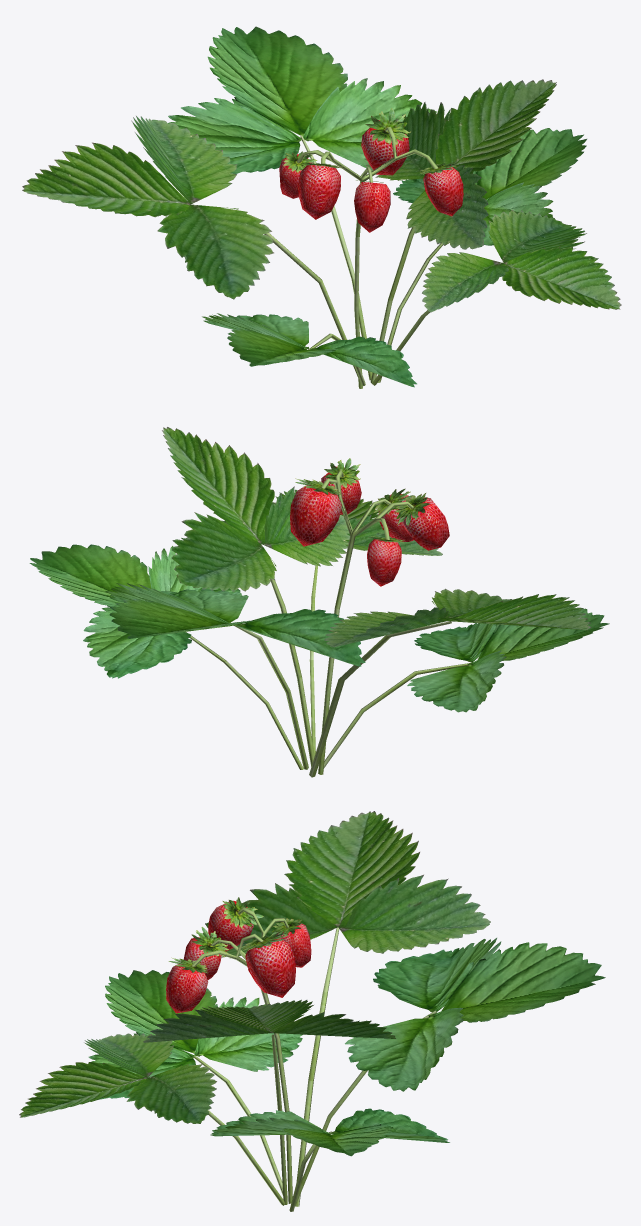
File: Strawberry4.fbx
3 views of the same model, one above another, from view 1: azimuth 30°, elevation 25°; view 2: azimuth 150°, elevation 25°; view 3: azimuth 270°, elevation 25° (orthographic). The views are drawn at different scales.
Visible parts, largest first — view 1: Strawberry4_LOD0; view 2: Strawberry4_LOD0; view 3: Strawberry4_LOD0.
Part boxes in pixels (<box>): Strawberry4_LOD0: <box>22,26,621,388</box>; Strawberry4_LOD0: <box>29,427,609,777</box>; Strawberry4_LOD0: <box>19,811,605,1211</box>.
Size of what is drawn, in the model's own units: 68.65 by 32.42 by 62.85.
